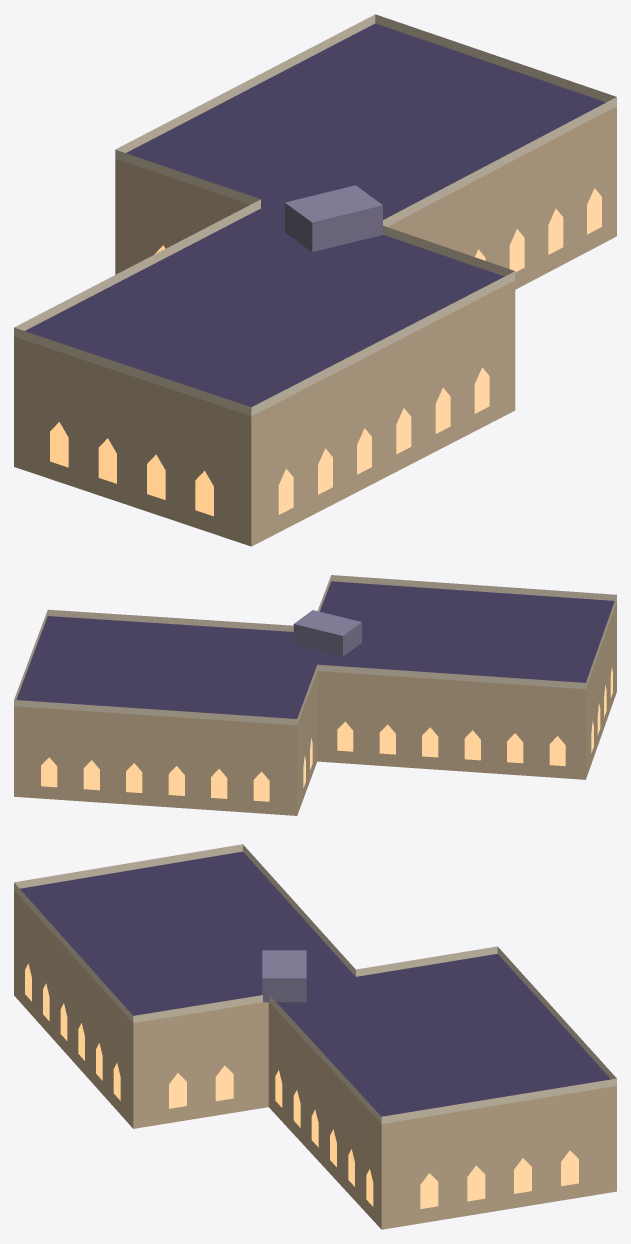
The picture shows the model from 3 angles, top to bottom: view 1: azimuth 30°, elevation 25°; view 2: azimuth 150°, elevation 25°; view 3: azimuth 270°, elevation 25°; orthographic projection. The views are drawn at different scales.
Visible parts, largest first — view 1: campus/b-138-0; view 2: campus/b-138-0; view 3: campus/b-138-0.
Part boxes in pixels (x1,y1,x2,y2): campus/b-138-0: [14, 14, 616, 546]; campus/b-138-0: [14, 575, 616, 815]; campus/b-138-0: [14, 844, 616, 1229].
Size of the model in its own units: 43.68 by 9.7 by 40.84.
